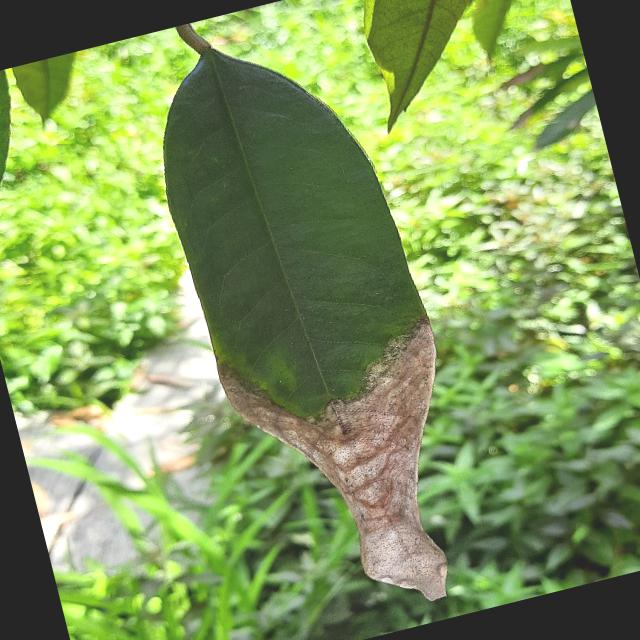Leaf Blight: (125, 6, 505, 639)
